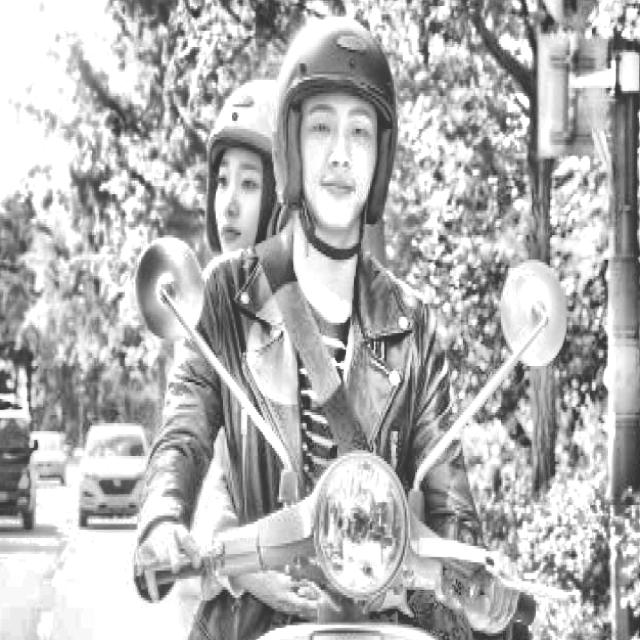Helmet: (273, 12, 403, 266)
